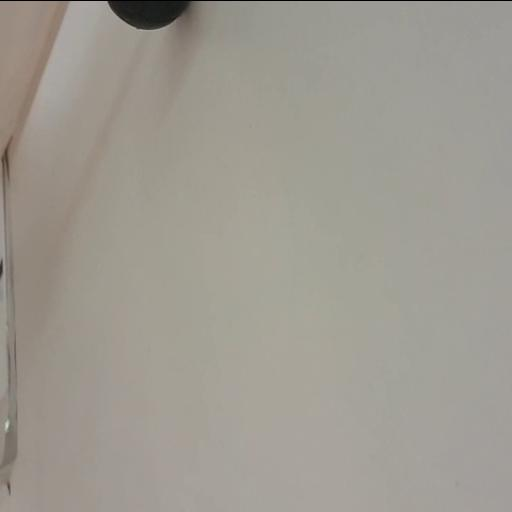dead: (102, 0, 188, 31)
